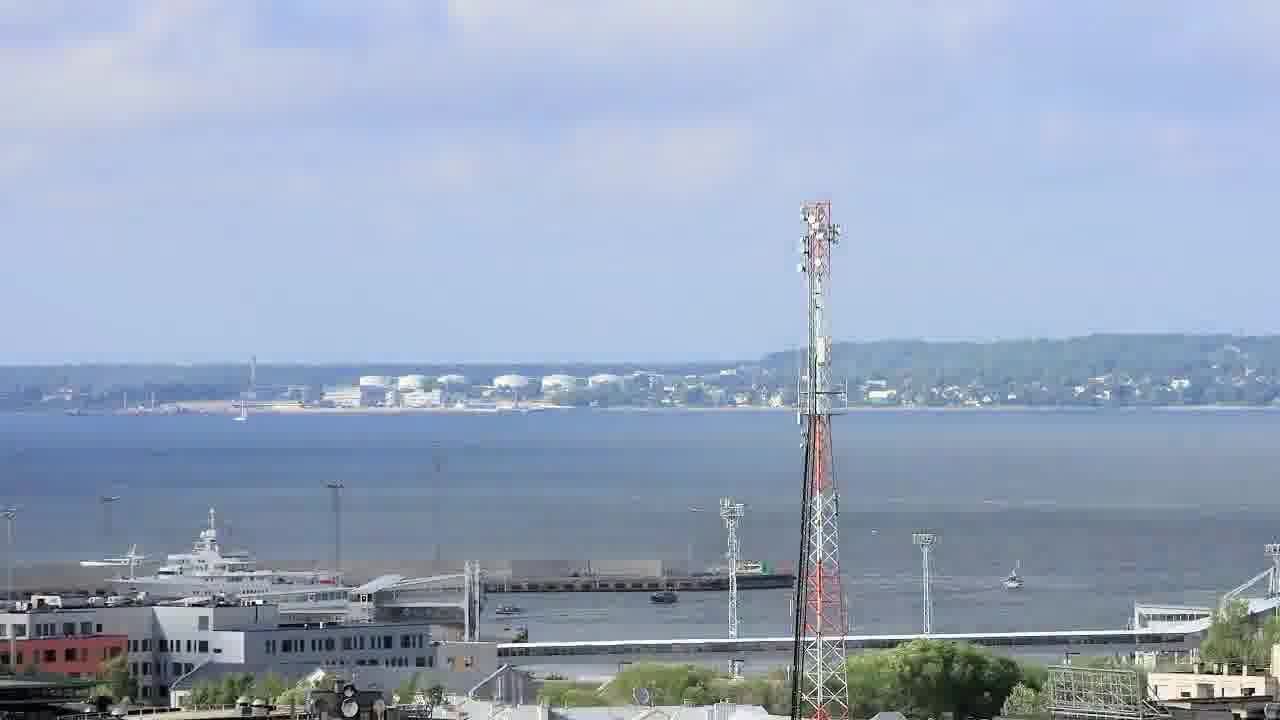type-0: (994, 566, 1043, 600), (638, 580, 682, 610), (489, 594, 532, 623)
type-3: (83, 515, 367, 615)
